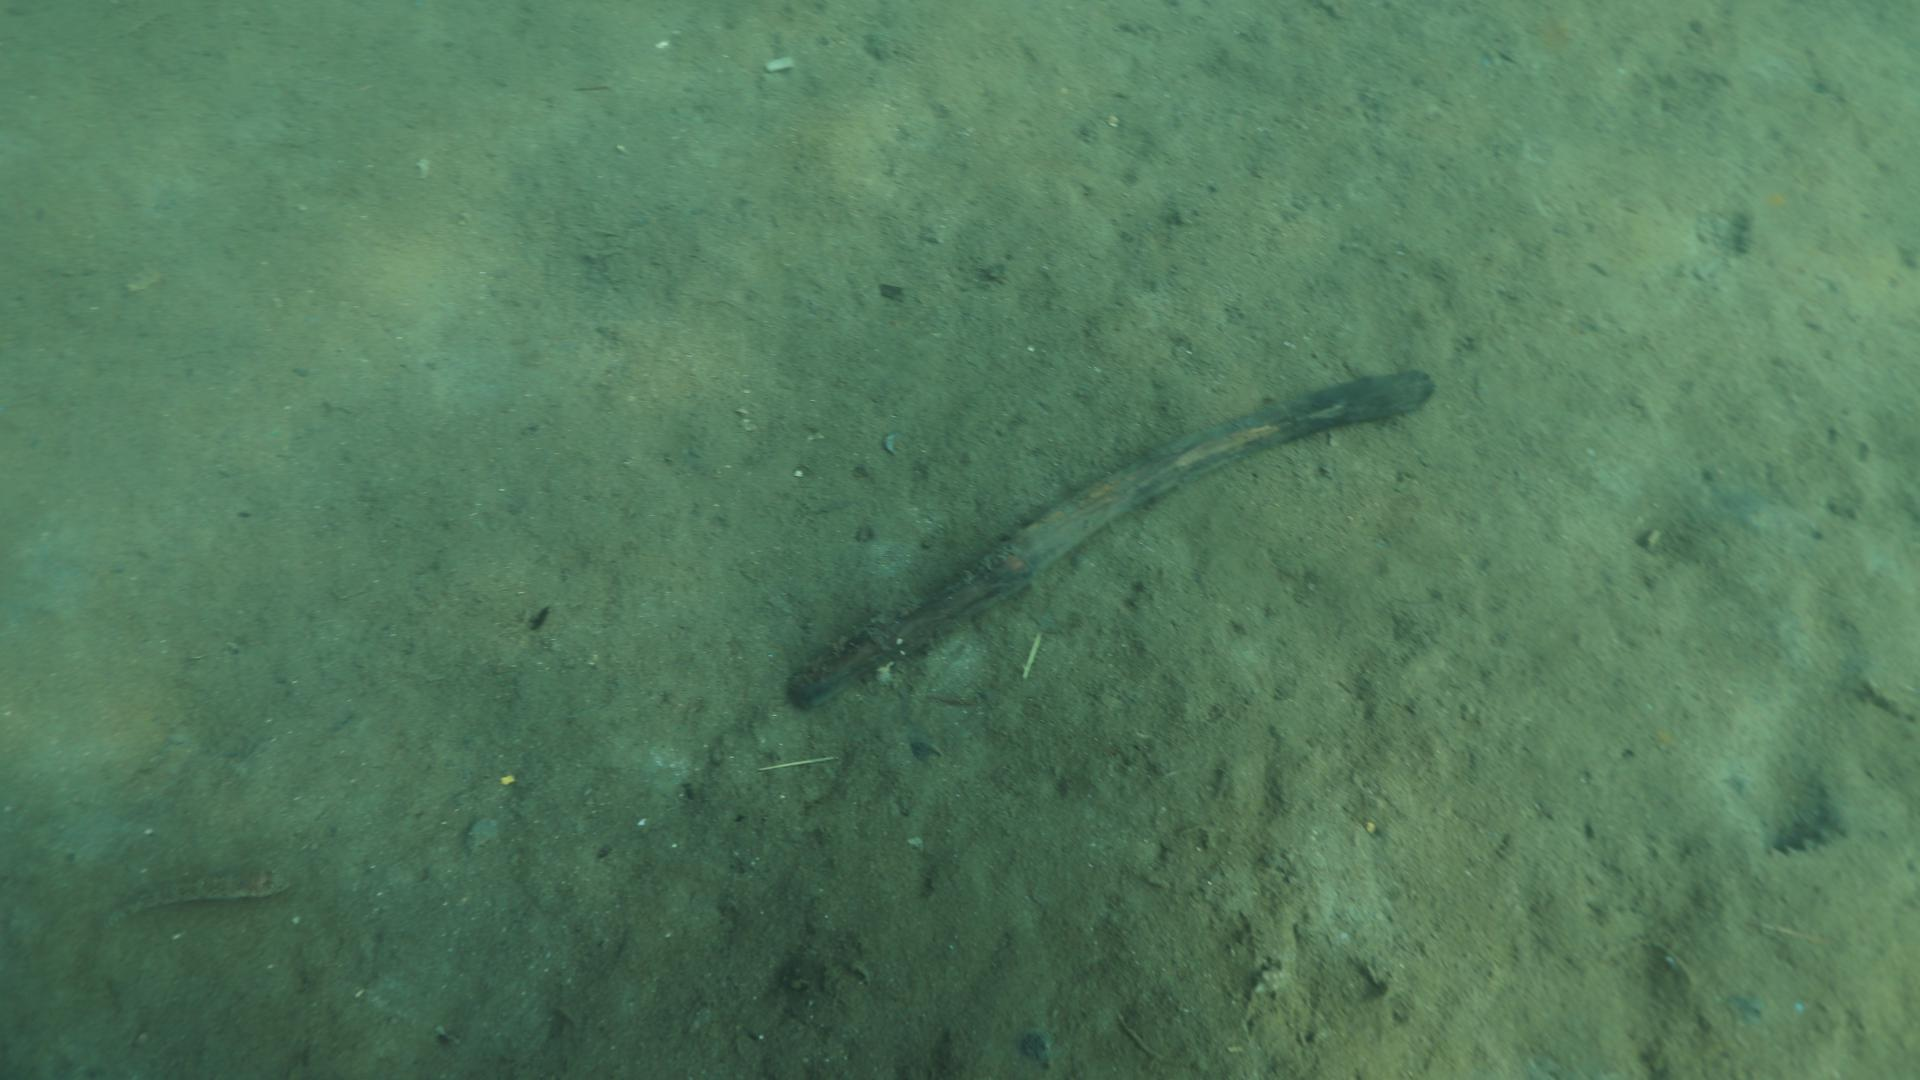wood: (781, 367, 1432, 713)
